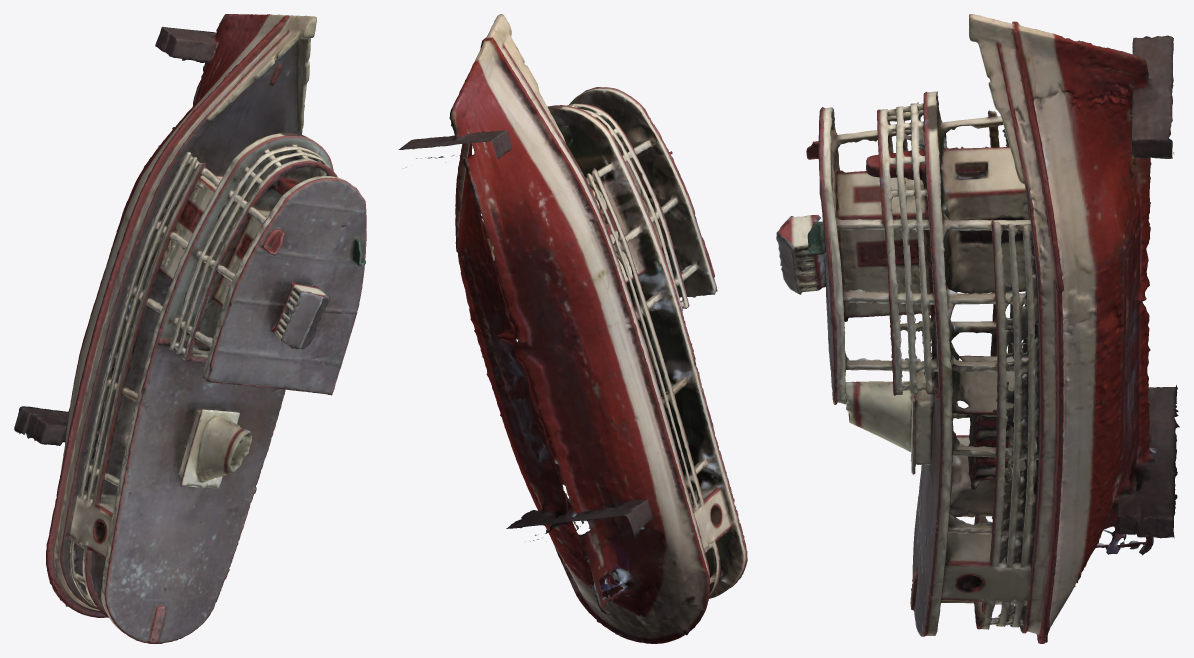
The model's file is batelao_otimizado.glb.
3 renders of one model, left to right at view 1: azimuth 30°, elevation 25°; view 2: azimuth 150°, elevation 25°; view 3: azimuth 270°, elevation 25°, orthographic. The views are drawn at different scales.
Parts seen in each view (by area): view 1: Mesh_0_Part_0; view 2: Mesh_0_Part_0; view 3: Mesh_0_Part_0.
Boxes of the visible parts, <box> form: Mesh_0_Part_0: <box>14,14,366,643</box>; Mesh_0_Part_0: <box>398,14,747,643</box>; Mesh_0_Part_0: <box>776,14,1179,643</box>.
Bounding box in the file's own units: 10.19 × 21.04 × 10.67.
1 material, 1 textured.
